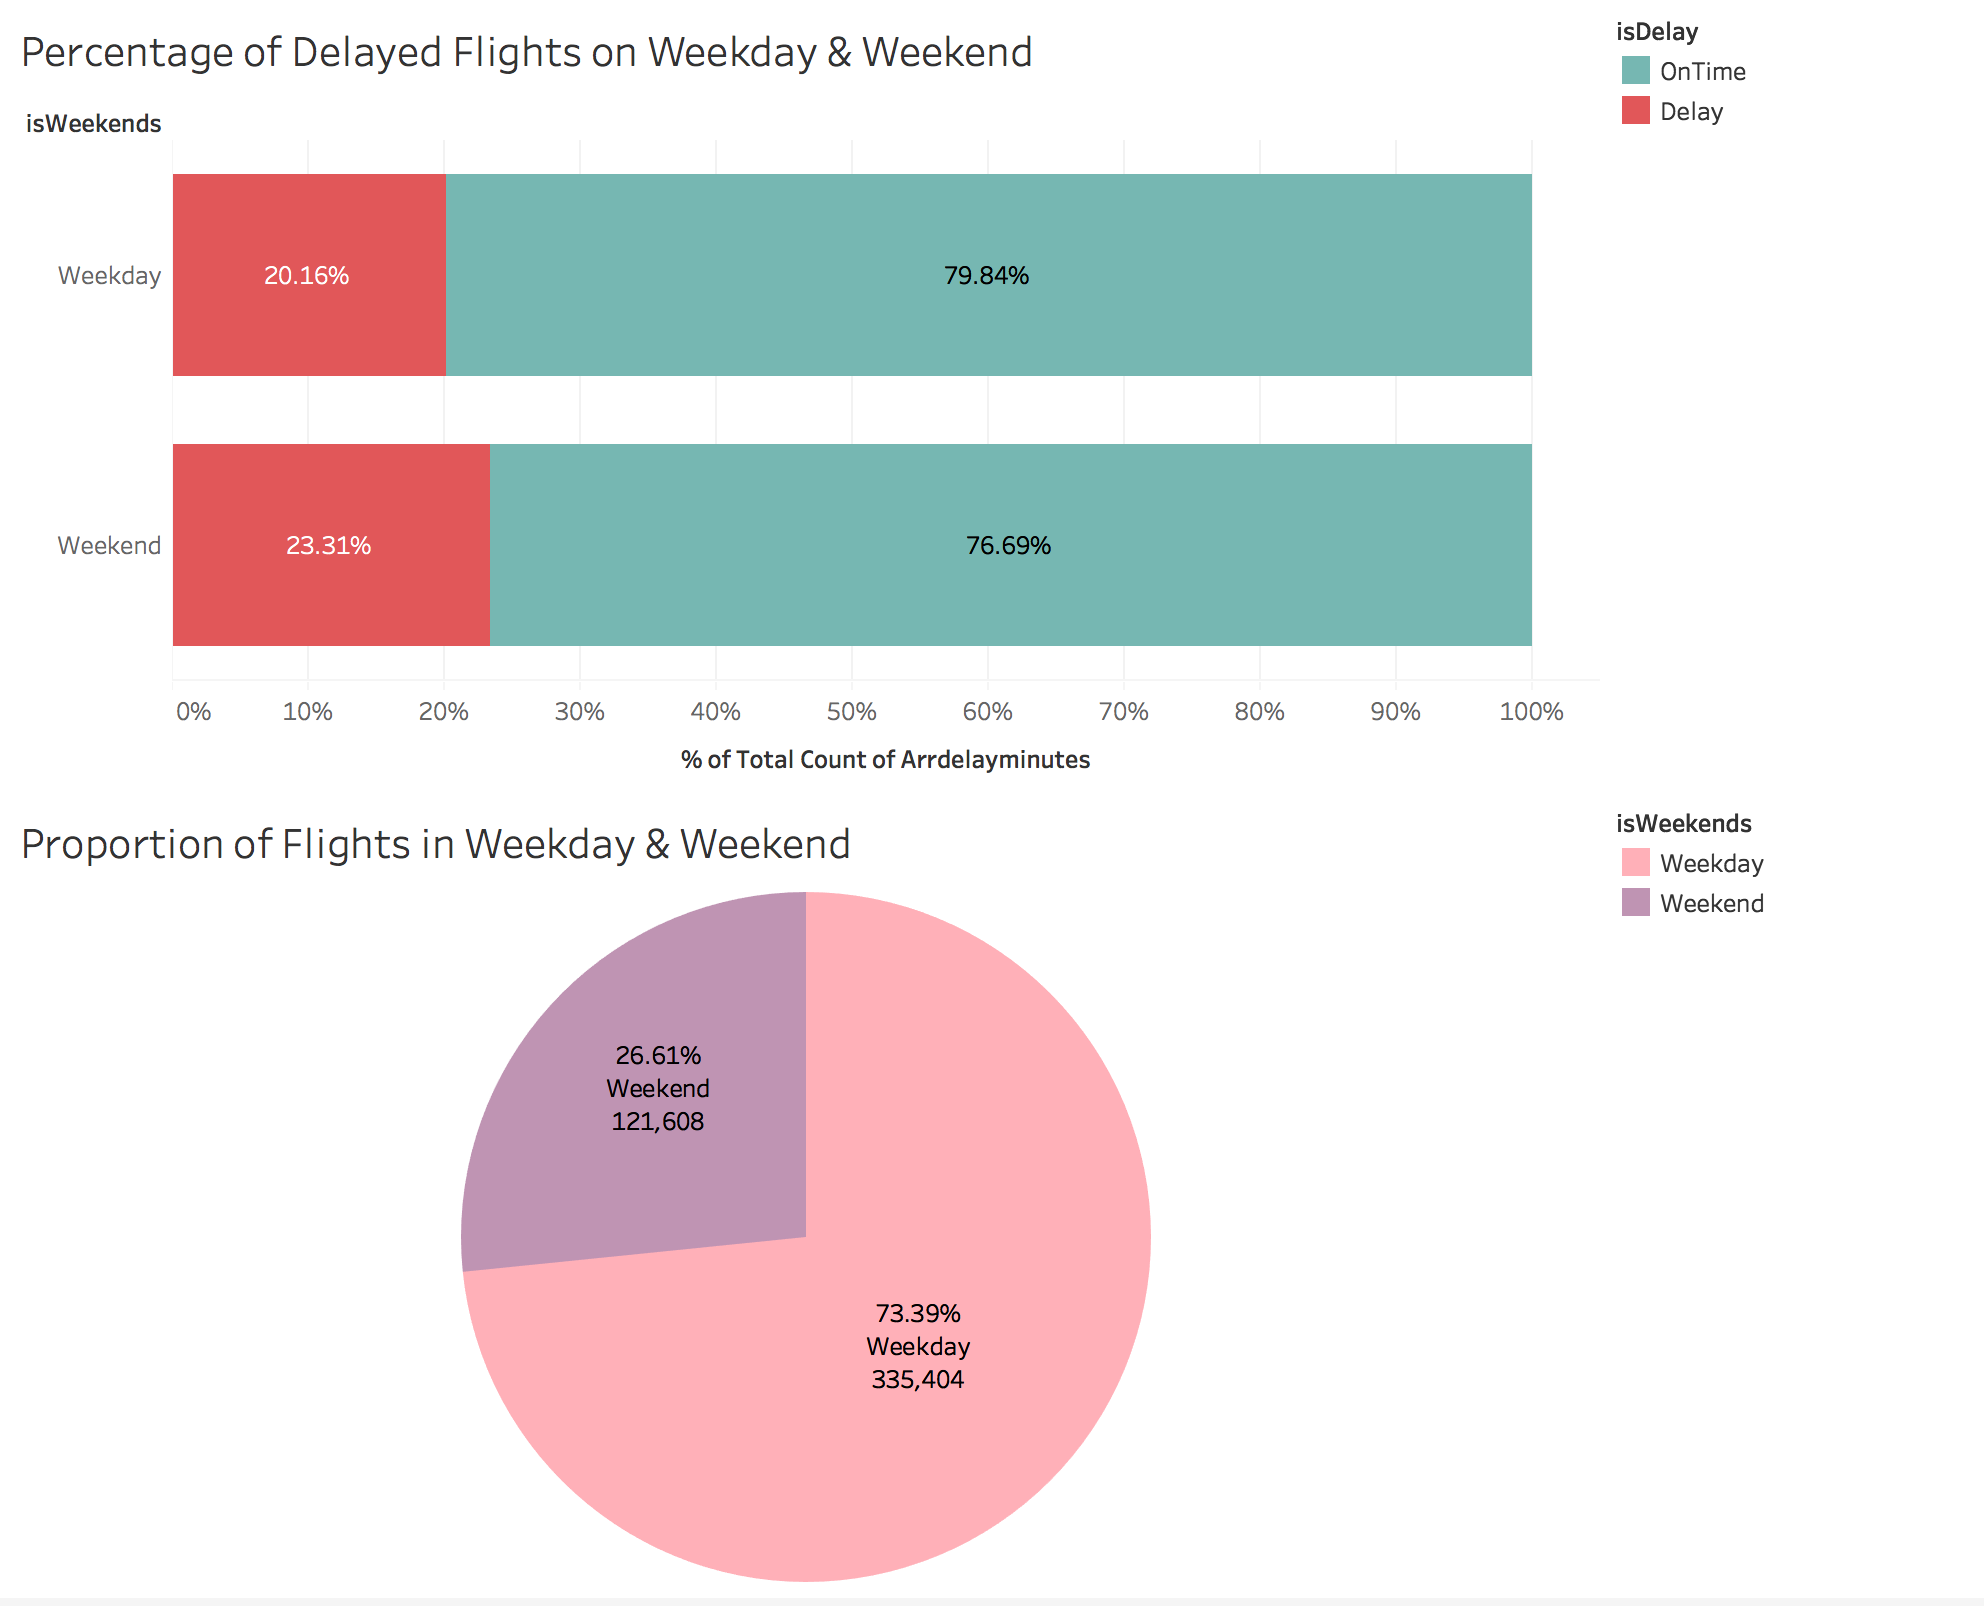

The dashboard page shown, as its layout file describes it:
{"tool":"tableau","page":{"name":"CSDS HW2 Q3.4 Dashboard","canvas":[1000,800],"ordinal":0},"visuals":[{"type":"worksheet","title":"CSDS HW2 Q3.4_1","mark":"Automatic","rows":["Calculation_512003020479332352"],"cols":["arrdelayminutes"],"box":[0,0,806.3,400]},{"type":"legend","title":"CSDS HW2 Q3.4_1","param":"[federated.0a2p5kf0p2p9jw11z80921flk92e].[none:Calculation_271553021489852431:nk","box":[806.3,0,189.7,400]},{"type":"worksheet","title":"CSDS HW2 Q3.4_2","mark":"Pie","box":[0,400,806.3,400]},{"type":"legend","title":"CSDS HW2 Q3.4_2","param":"[federated.0a2p5kf0p2p9jw11z80921flk92e].[none:Calculation_512003020479332352:nk","box":[806.3,400,189.7,400]}]}

Visuals, with their boxes in screenshot pixels (x1, y1, x2, y2), scaled from the page's 1000x800 canvas onto the 1984x1606 screenshot:
"CSDS HW2 Q3.4_1" worksheet: locate(0, 0, 1600, 803)
"CSDS HW2 Q3.4_1" legend: locate(1600, 0, 1976, 803)
"CSDS HW2 Q3.4_2" worksheet (Pie marks): locate(0, 803, 1600, 1605)
"CSDS HW2 Q3.4_2" legend: locate(1600, 803, 1976, 1605)
